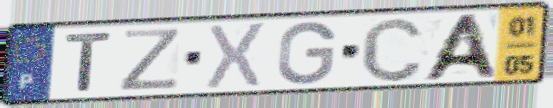A: (416, 11, 502, 83)
C: (358, 14, 426, 84)
G: (275, 19, 339, 86)
T: (62, 30, 116, 94)
X: (203, 19, 269, 91)
Z: (116, 26, 184, 93)
